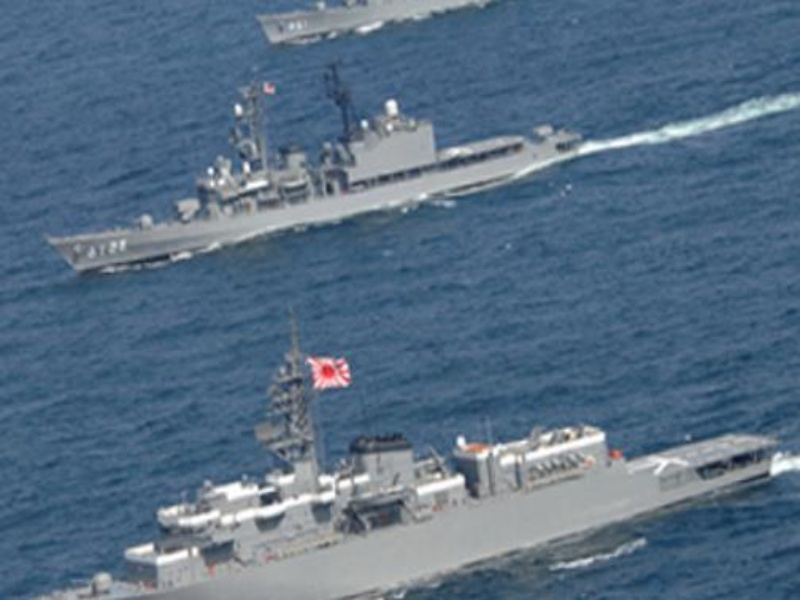cruise: (47, 412, 787, 590), (52, 99, 562, 260), (263, 5, 505, 40)
